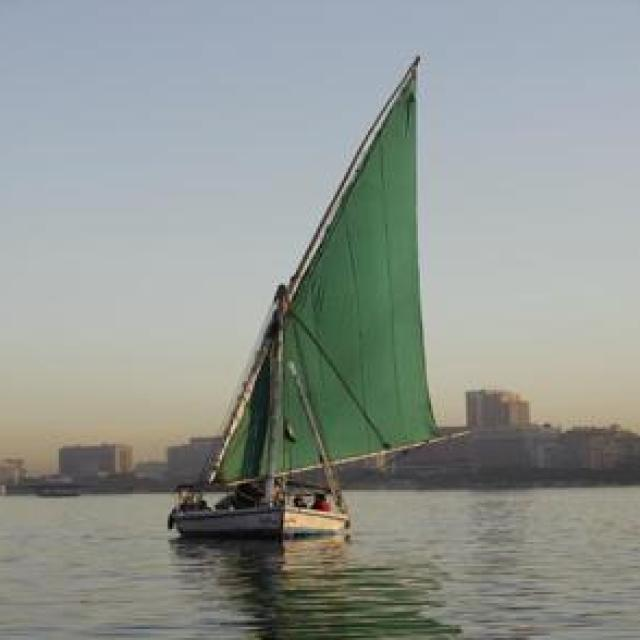sailboat: (146, 46, 460, 536)
